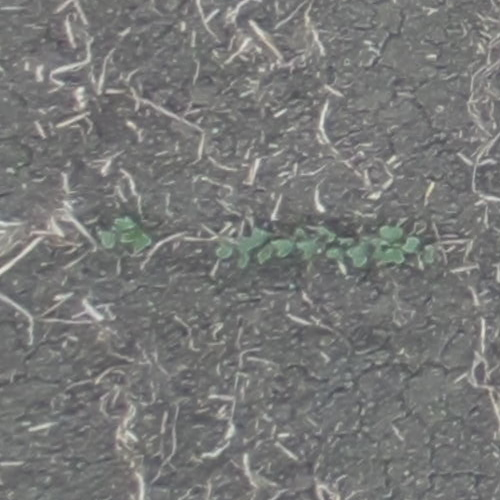clumped: (216, 226, 419, 267)
isolated: (97, 220, 154, 251)
